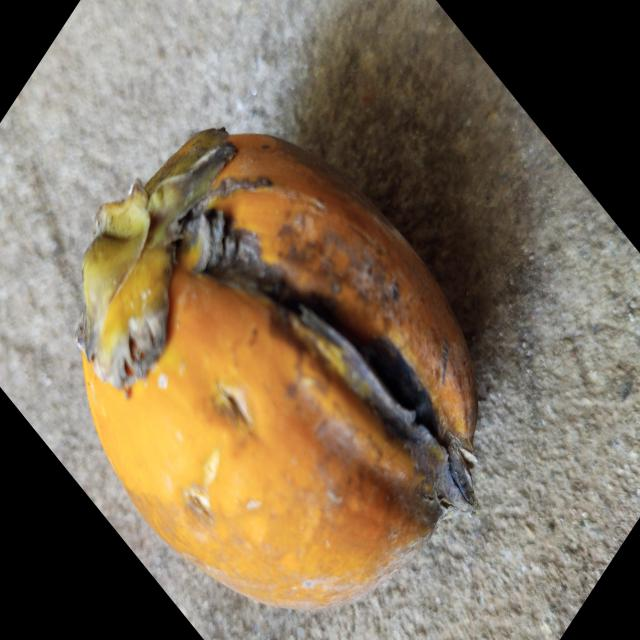damaged: (38, 123, 479, 614)
